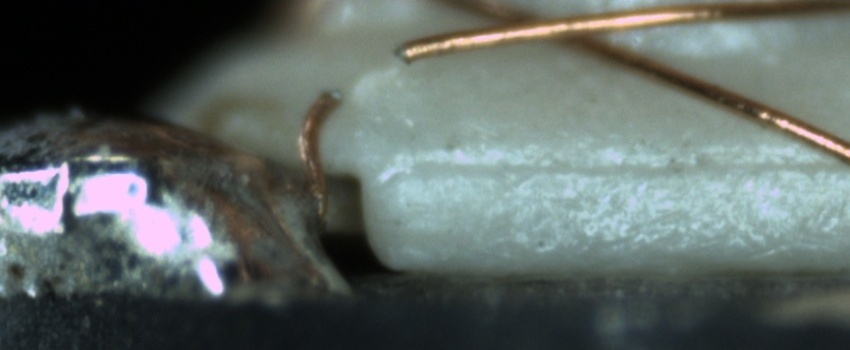DL: (389, 134, 849, 201)
